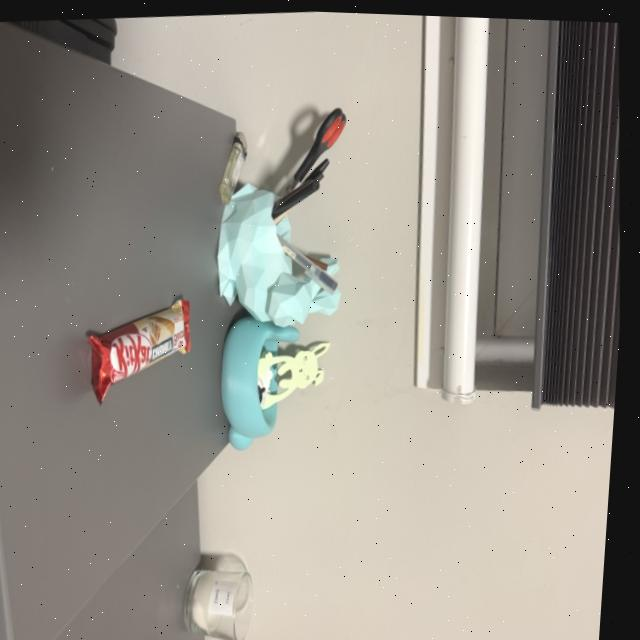chocolate: (81, 287, 207, 406)
